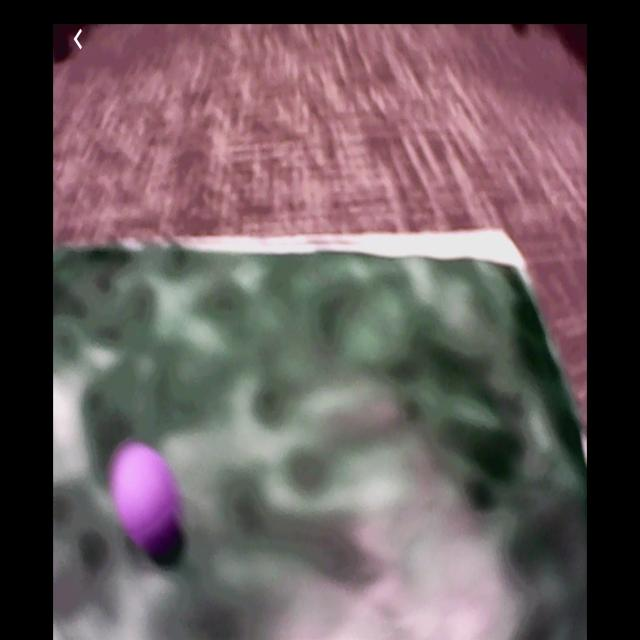ball: (115, 442, 181, 543)
